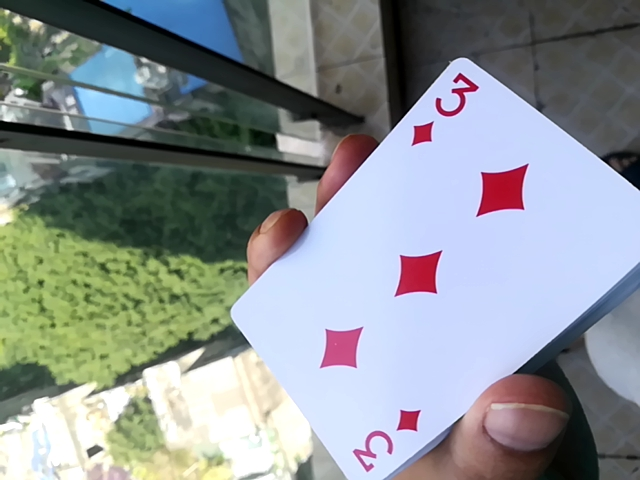fk 3: (221, 40, 637, 474)
